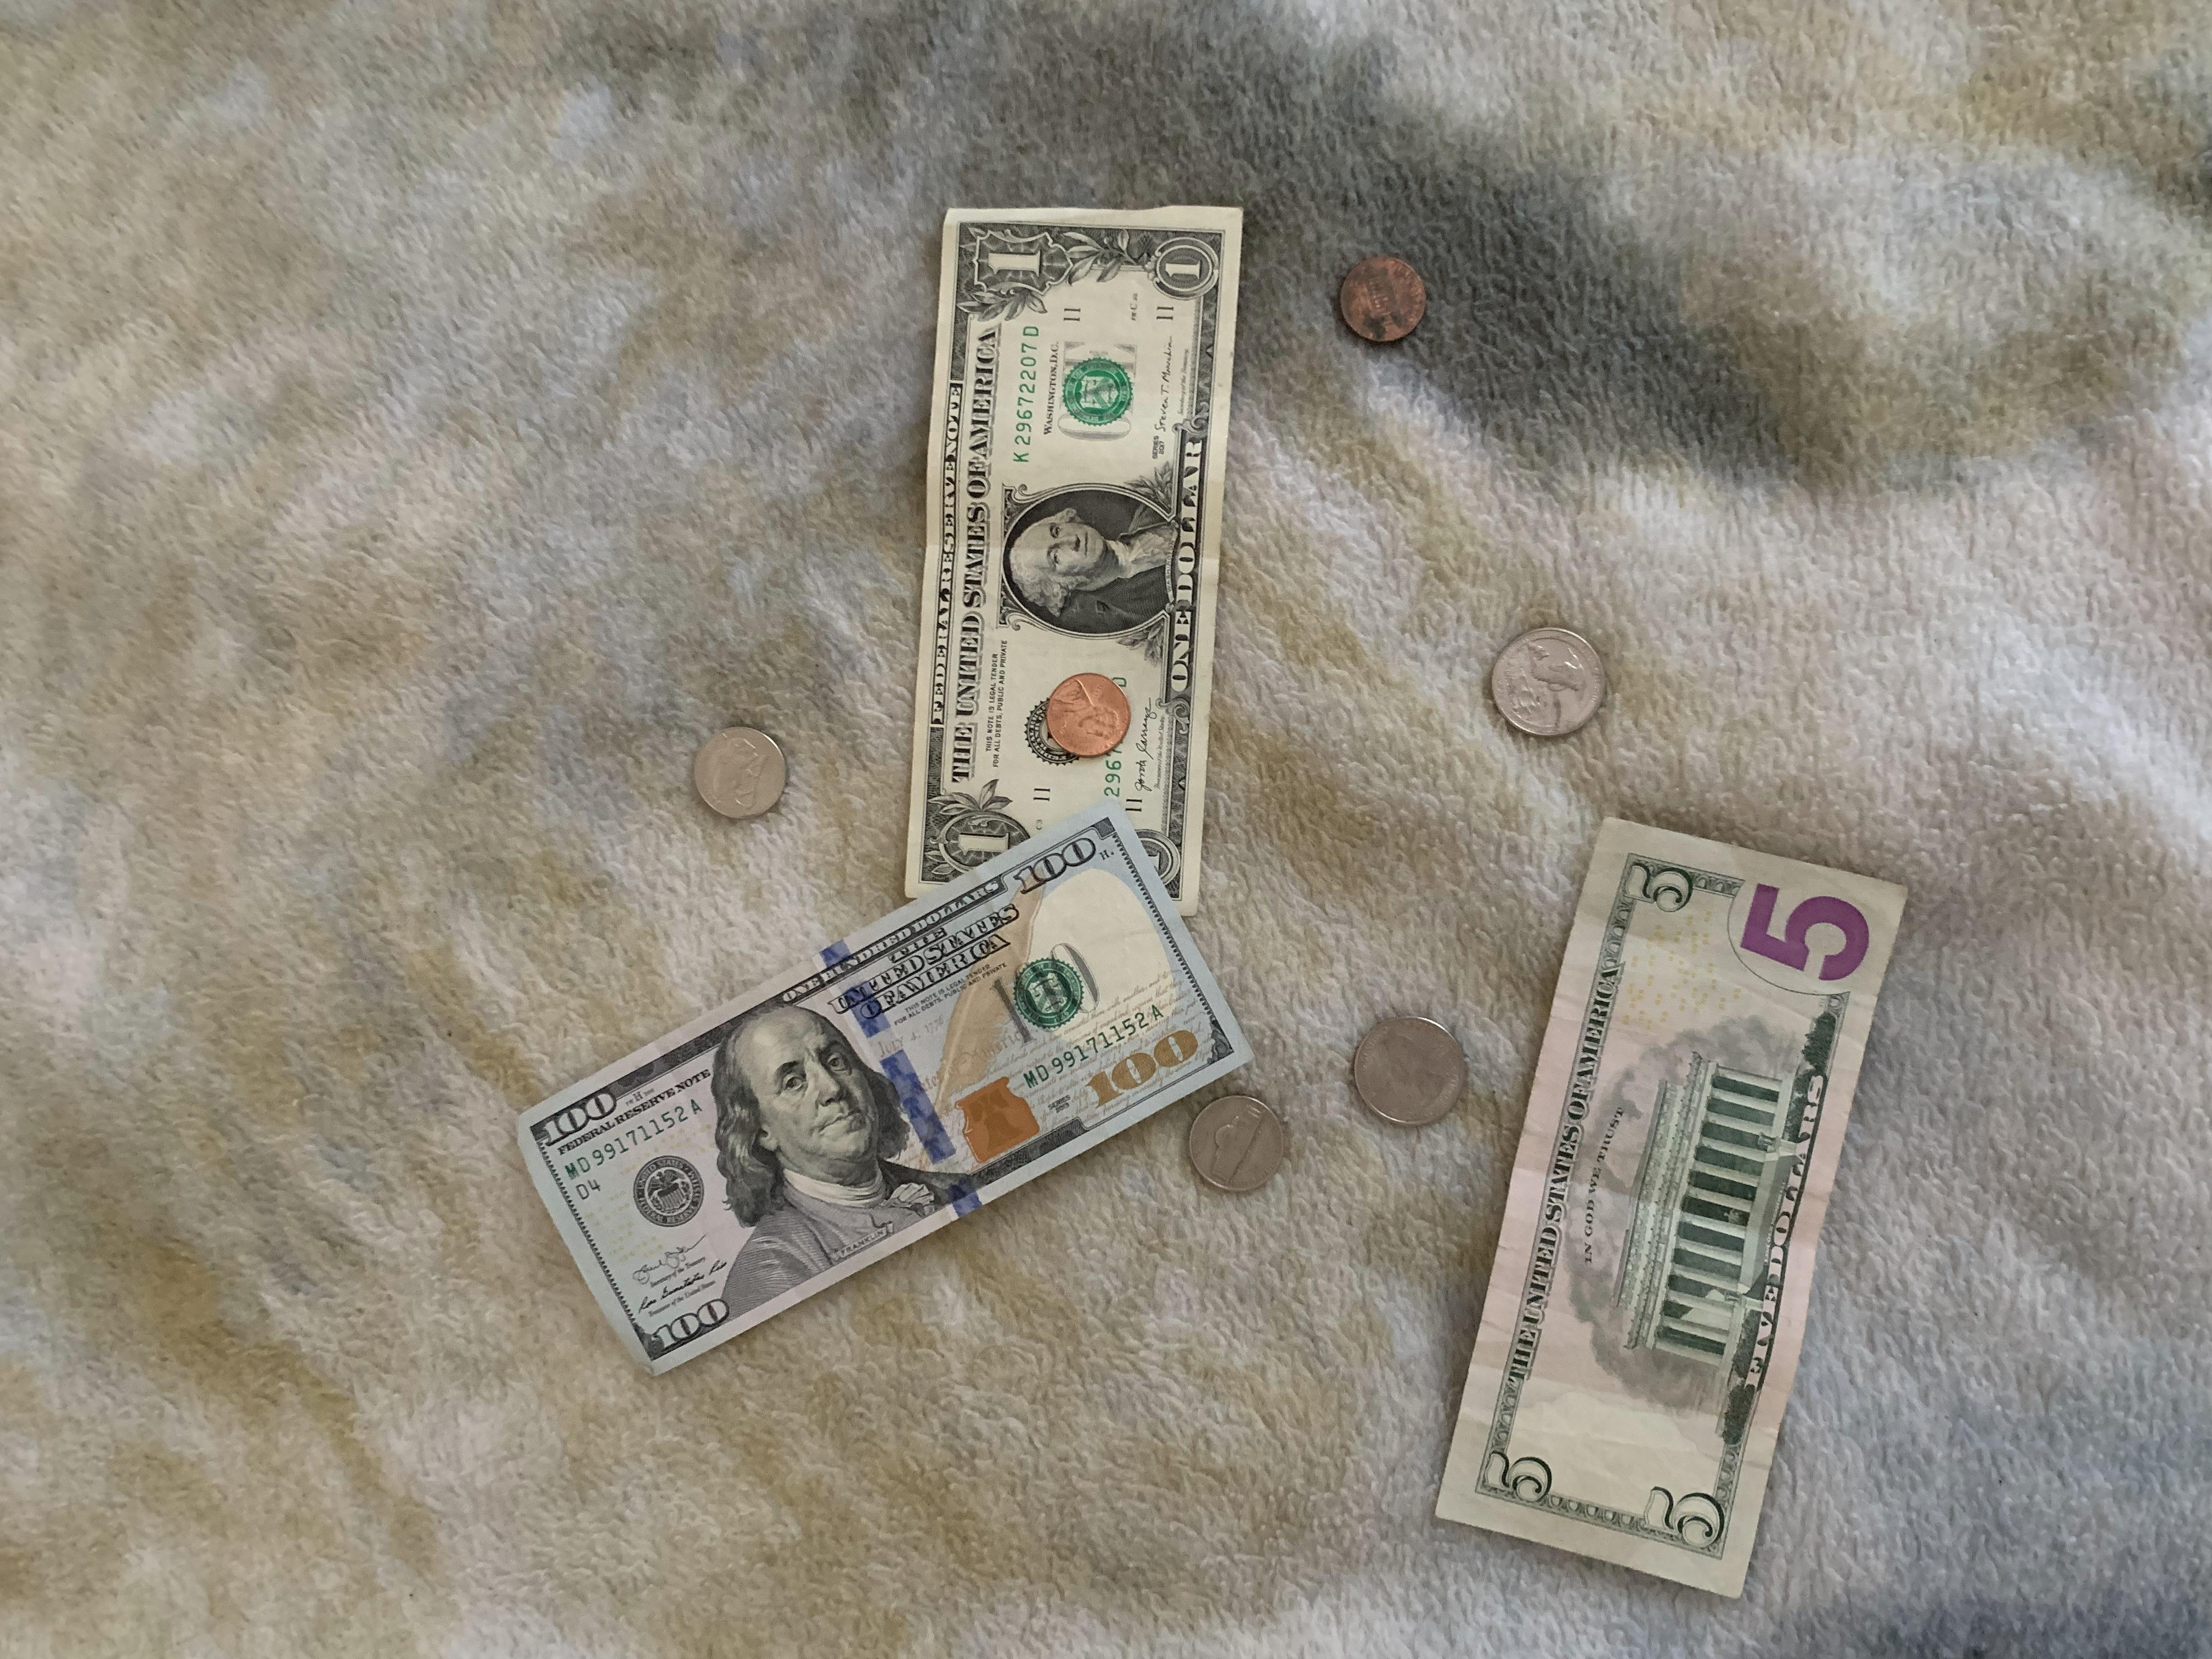FiveBill: (1430, 814, 1921, 1601)
HundredBill: (516, 809, 1252, 1380)
Nickel: (686, 713, 798, 824), (1184, 1091, 1291, 1195)
OneBill: (894, 199, 1247, 913)
Penny: (1329, 246, 1435, 352), (1042, 669, 1136, 760)
Quarter: (1487, 624, 1609, 744), (1341, 1012, 1470, 1126)
